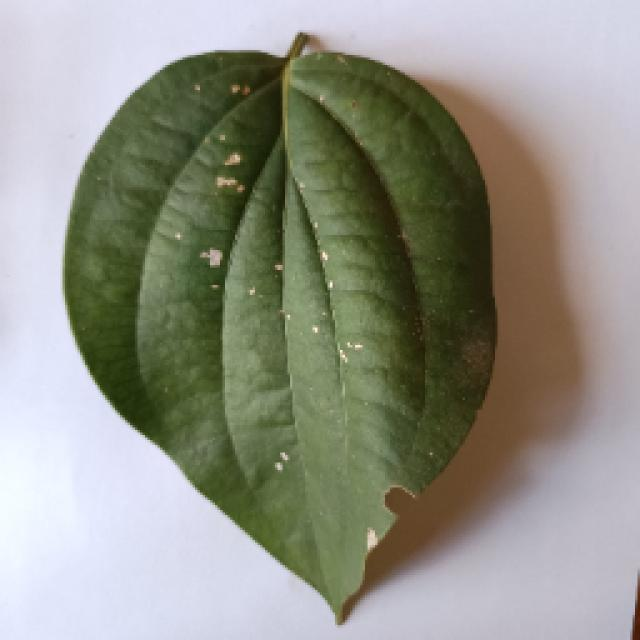pollu-disease: (60, 35, 490, 620)
